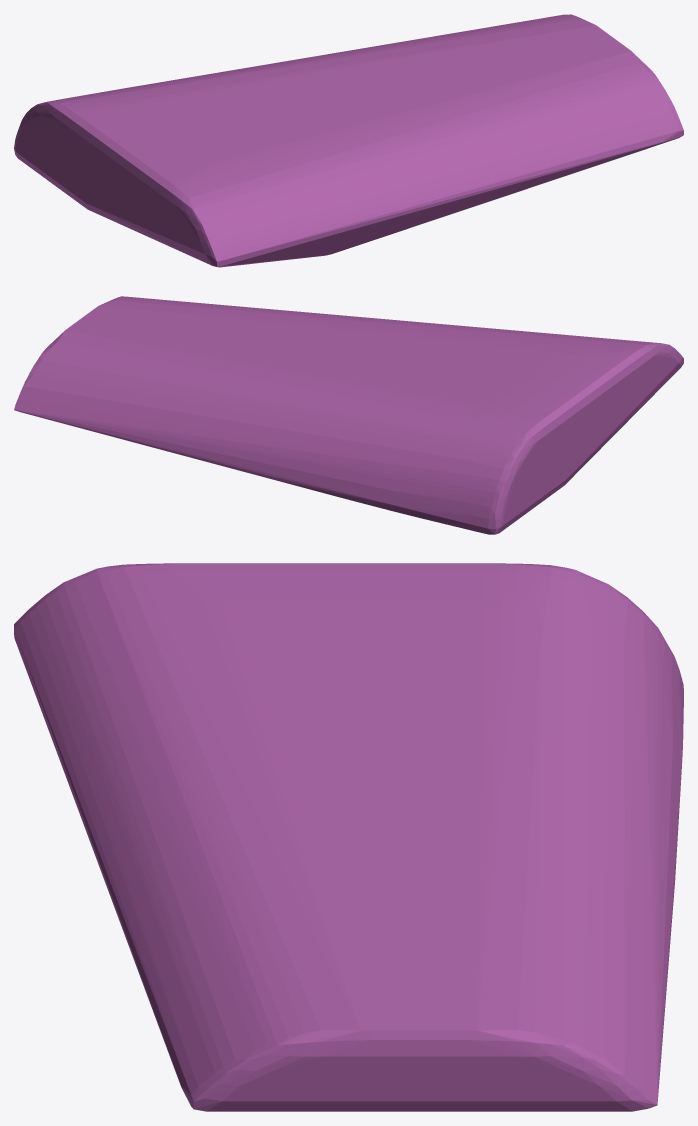
The model's file is left_elbow_link_part_7.obj.
The picture shows the model from 3 angles, top to bottom: view 1: azimuth 30°, elevation 25°; view 2: azimuth 150°, elevation 25°; view 3: azimuth 270°, elevation 25°; orthographic projection. The views are drawn at different scales.
Bounding box in the file's own units: 0.0905 × 0.0138 × 0.0605.
